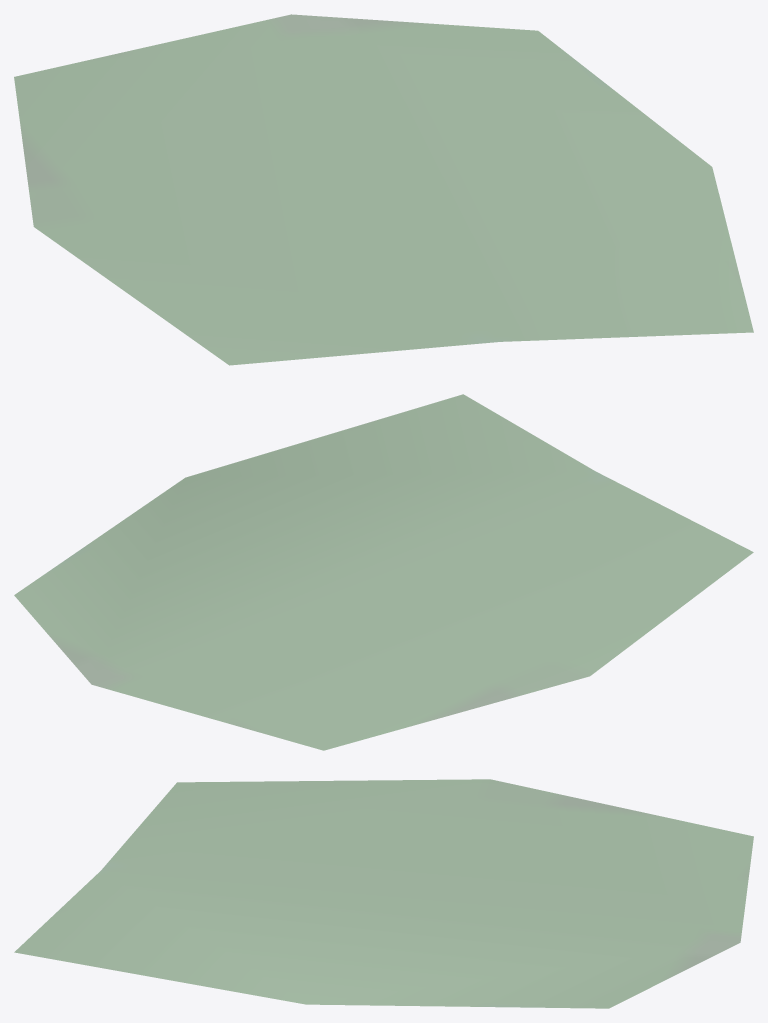
Rendered from TROLLHOLE02_HOLECAP153.fbx.
3 views of the same model, one above another, from view 1: azimuth 30°, elevation 25°; view 2: azimuth 150°, elevation 25°; view 3: azimuth 270°, elevation 25° (orthographic). The views are drawn at different scales.
Parts seen in each view (by area): view 1: TROLLHOLE02_HOLECAP153; view 2: TROLLHOLE02_HOLECAP153; view 3: TROLLHOLE02_HOLECAP153.
Boxes of the visible parts, <box> form: TROLLHOLE02_HOLECAP153: <box>14,14,753,365</box>; TROLLHOLE02_HOLECAP153: <box>14,394,753,750</box>; TROLLHOLE02_HOLECAP153: <box>14,779,753,1008</box>.
Bounding box in the file's own units: 35357 × 261 × 47671.
Materials: 1 (1 with a texture image).
